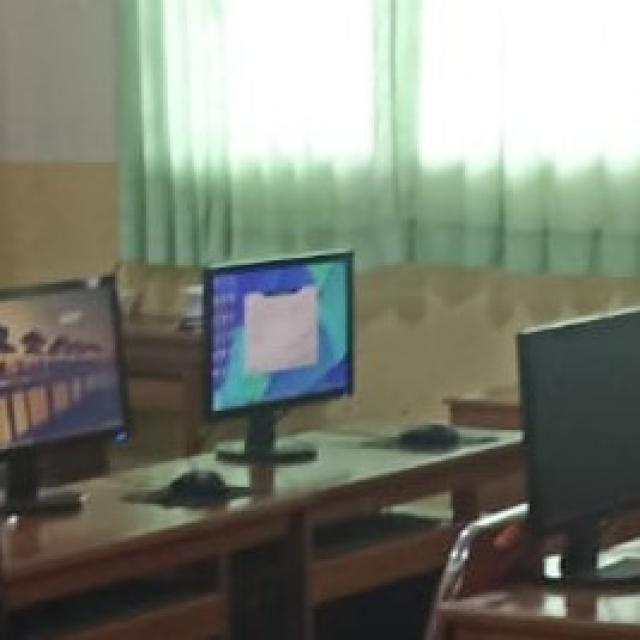offscreen: (205, 251, 353, 462), (518, 308, 640, 532)
onscreen: (0, 276, 124, 449)
